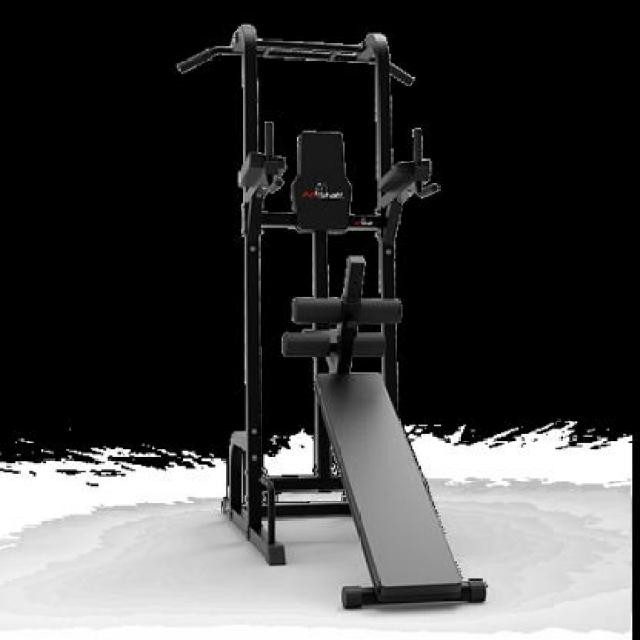chinning dipping: (177, 25, 443, 568)
